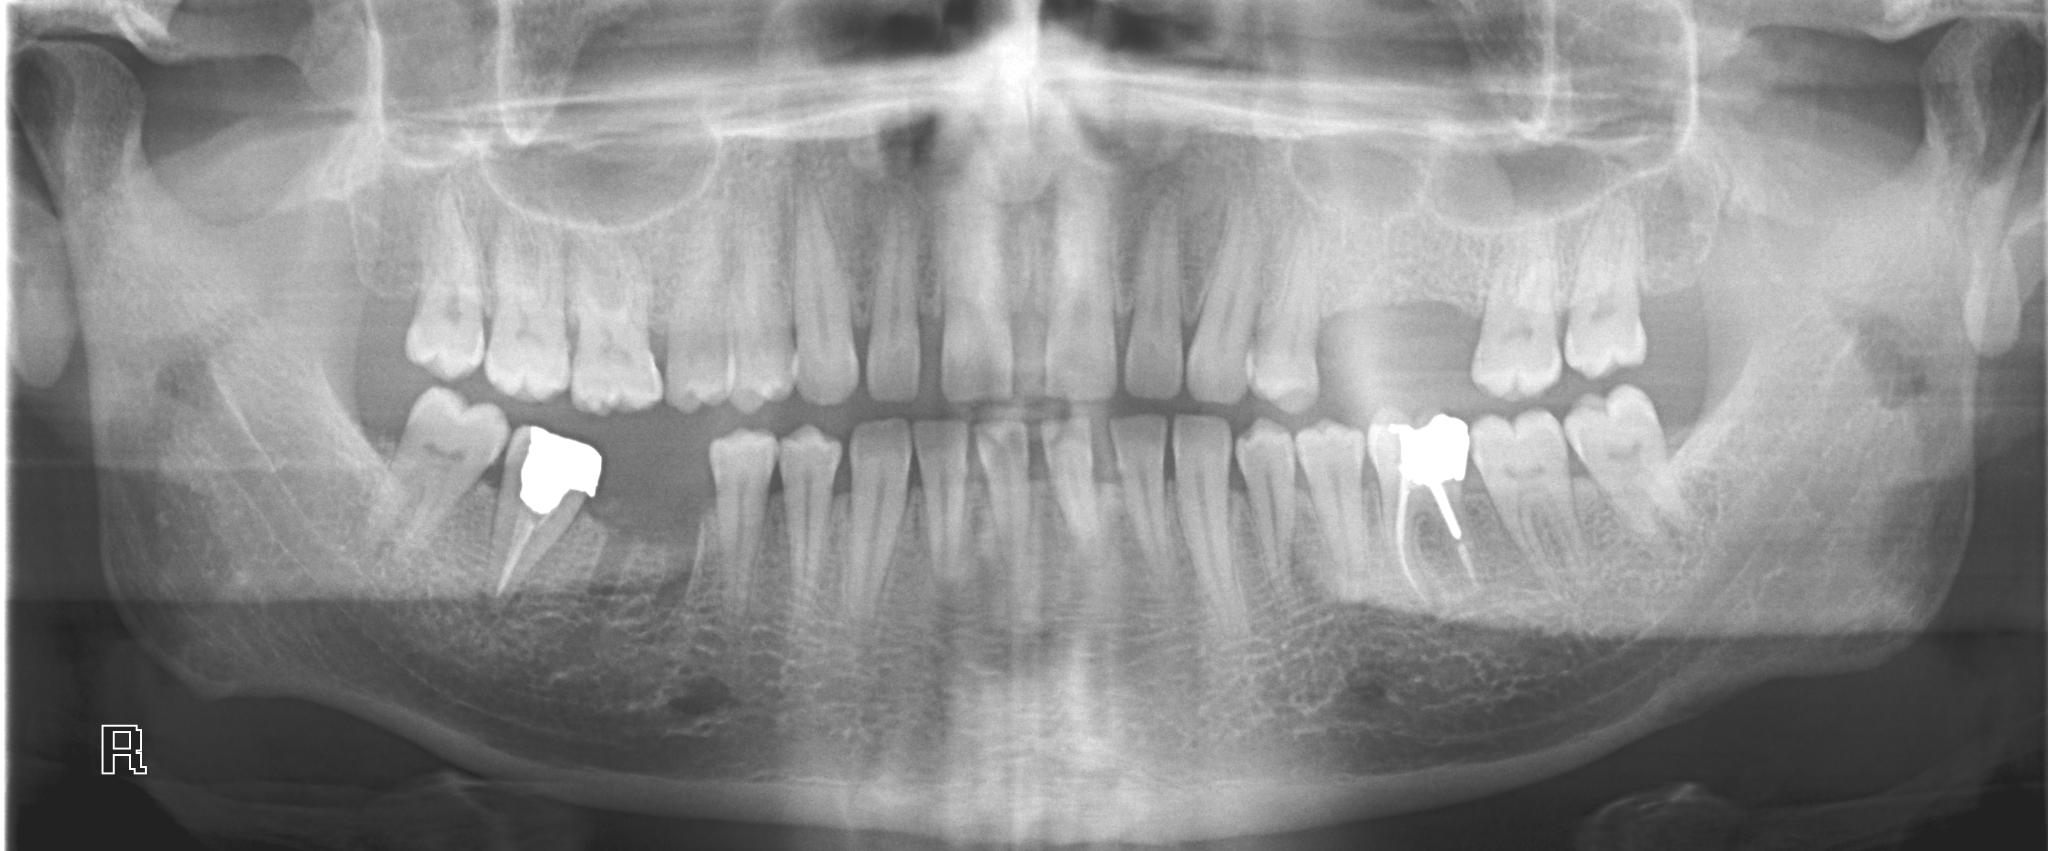Fillings: (482, 422, 605, 612)
Implant: (1366, 409, 1479, 599)
